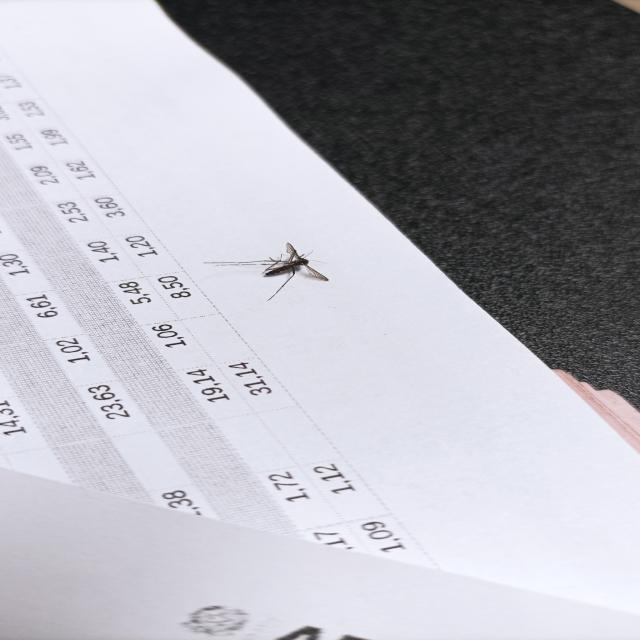albopictus: (202, 236, 340, 302)
